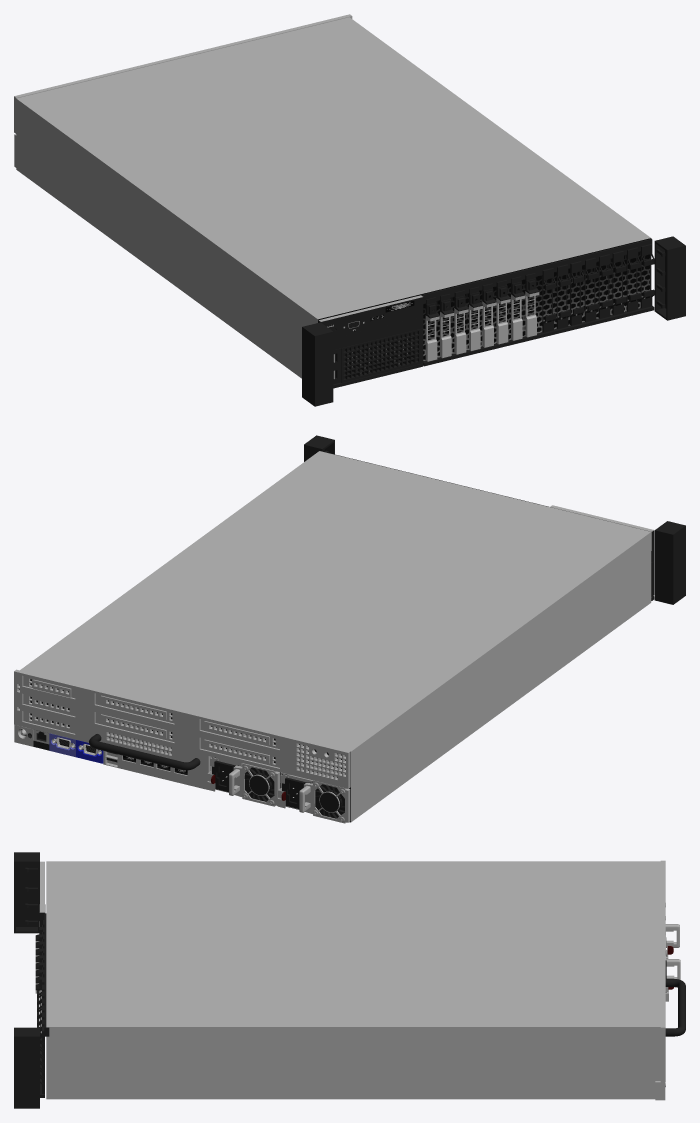
The model's file is Dell_R730.fbx.
3 renders of one model, top to bottom at view 1: azimuth 30°, elevation 25°; view 2: azimuth 150°, elevation 25°; view 3: azimuth 270°, elevation 25°, orthographic. The views are drawn at different scales.
Parts seen in each view (by area): view 1: Dell_R730; view 2: Dell_R730; view 3: Dell_R730.
Part boxes in pixels (bbox=[...]): Dell_R730: bbox=[14, 14, 685, 406]; Dell_R730: bbox=[14, 435, 685, 823]; Dell_R730: bbox=[14, 852, 685, 1108].
Size of the model in its own units: 478 by 89.46 by 736.
Materials: 14 (8 with a texture image).
